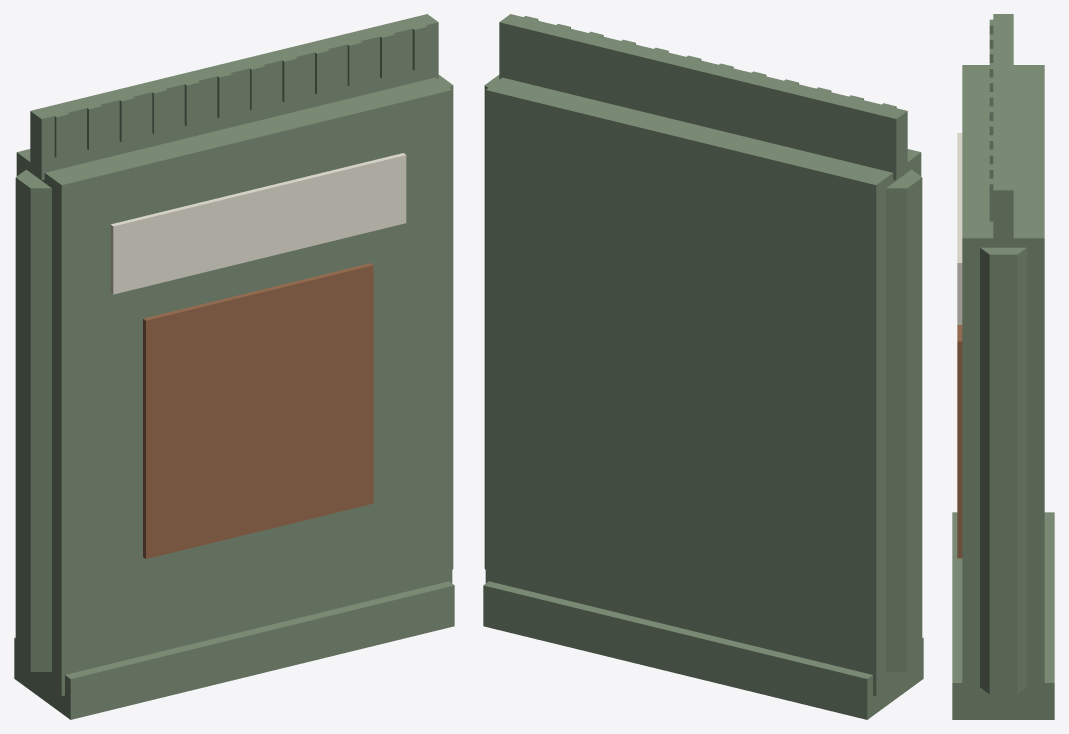
File: food_jerky.glb
3 renders of one model, left to right at view 1: azimuth 30°, elevation 25°; view 2: azimuth 150°, elevation 25°; view 3: azimuth 270°, elevation 25°, orthographic. The views are drawn at different scales.
Visible parts, largest first — view 1: Jerky; view 2: Jerky; view 3: Jerky.
Part boxes in pixels (x1,y1,x2,y2): Jerky: (14, 14, 454, 719); Jerky: (483, 14, 923, 719); Jerky: (952, 14, 1054, 719).
Size of the model in its own units: 0.1299 by 0.172 by 0.03.
